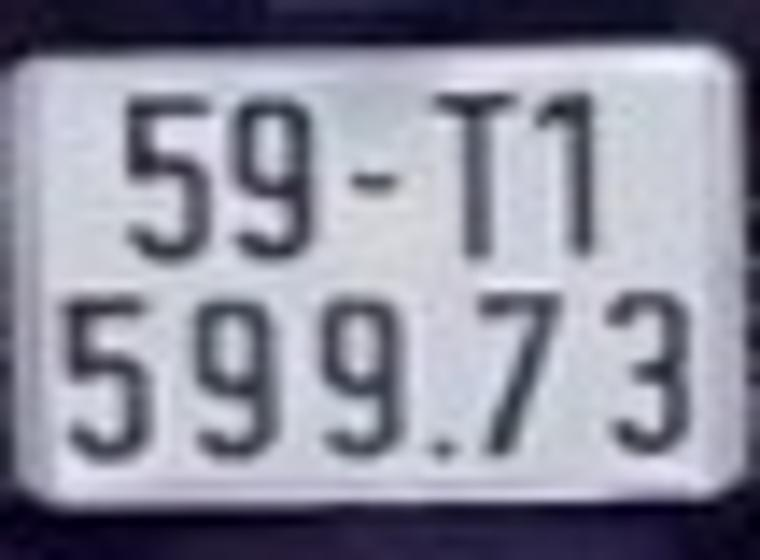-: (352, 172, 395, 191)
.: (427, 439, 452, 458)
1: (537, 95, 598, 256)
3: (602, 291, 692, 453)
5: (123, 90, 211, 258), (65, 295, 153, 462)
7: (471, 292, 566, 454)
9: (319, 294, 402, 456), (194, 299, 279, 456), (231, 95, 309, 258)
T: (432, 91, 521, 261)
